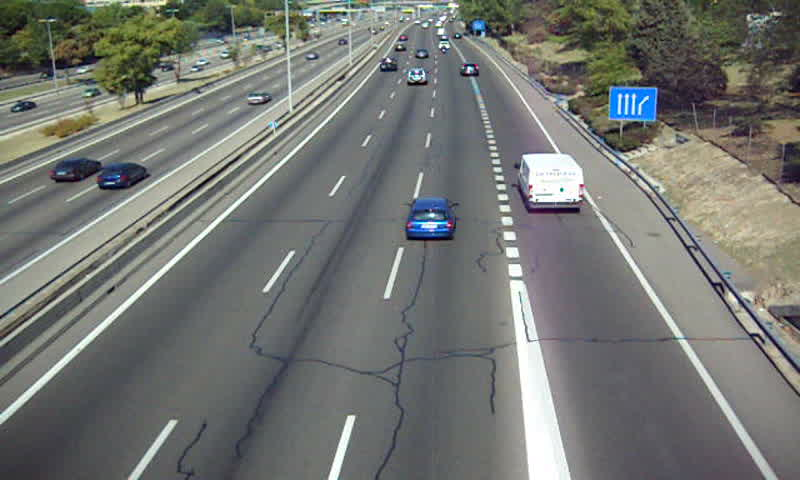car: (406, 198, 456, 239), (405, 68, 427, 85), (459, 62, 483, 76), (380, 57, 398, 74)
van: (515, 153, 586, 213)
